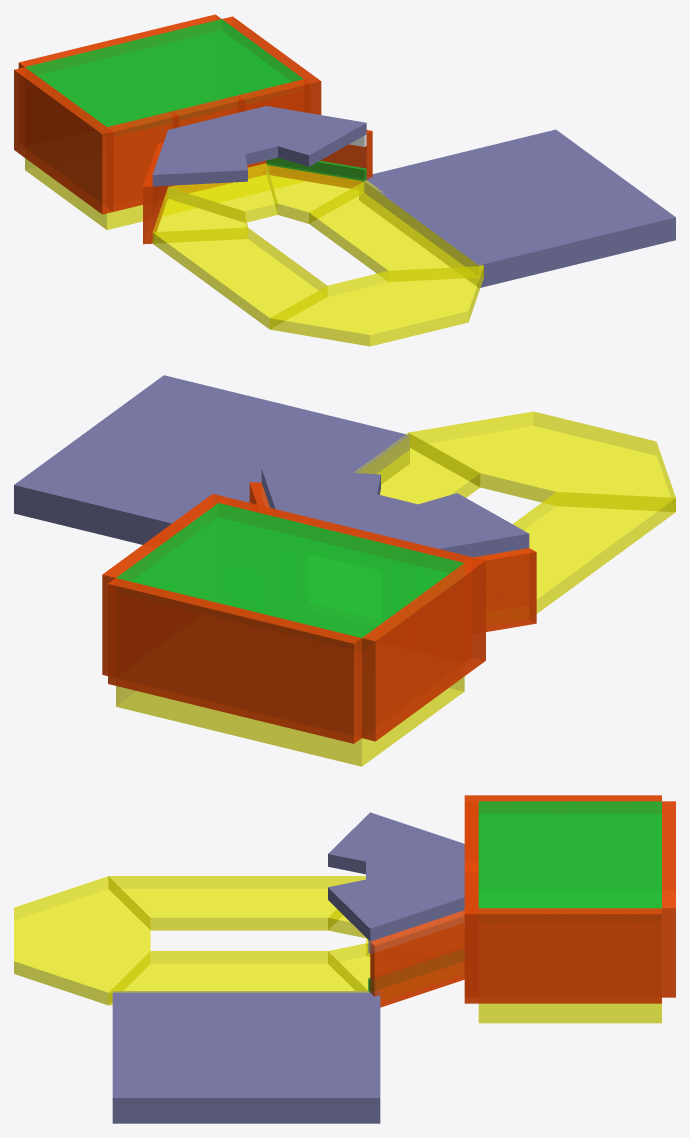
The model's file is angled.obj.
The picture shows the model from 3 angles, top to bottom: view 1: azimuth 30°, elevation 25°; view 2: azimuth 150°, elevation 25°; view 3: azimuth 270°, elevation 25°; orthographic projection. The views are drawn at different scales.
Visible parts, largest first — view 1: entity0_brush20, entity0_brush16, entity0_brush6, entity0_brush4, entity0_brush5, entity0_brush9, entity0_brush13, entity0_brush17, entity0_brush3, entity0_brush18, entity0_brush0, entity0_brush2 (+9 smaller); view 2: entity0_brush20, entity0_brush8, entity0_brush16, entity0_brush6, entity0_brush9, entity0_brush4, entity0_brush1, entity0_brush5, entity0_brush17, entity0_brush18, entity0_brush11, entity0_brush19 (+4 smaller); view 3: entity0_brush20, entity0_brush16, entity0_brush7, entity0_brush6, entity0_brush4, entity0_brush5, entity0_brush10, entity0_brush18, entity0_brush17, entity0_brush1, entity0_brush19, entity0_brush8 (+8 smaller).
Part boxes in pixels (x1,y1,x2,y2): entity0_brush20: [359, 129, 675, 287]; entity0_brush16: [25, 19, 303, 133]; entity0_brush6: [270, 266, 483, 346]; entity0_brush4: [152, 227, 327, 329]; entity0_brush5: [309, 180, 483, 281]; entity0_brush9: [14, 67, 113, 214]; entity0_brush13: [107, 111, 178, 211]; entity0_brush17: [152, 130, 247, 186]; entity0_brush3: [153, 187, 247, 243]; entity0_brush18: [266, 106, 366, 166]; entity0_brush0: [168, 163, 277, 222]; entity0_brush2: [267, 165, 363, 223]; entity0_brush20: [14, 375, 409, 544]; entity0_brush8: [108, 578, 361, 743]; entity0_brush16: [116, 503, 464, 638]; entity0_brush6: [408, 411, 675, 511]; entity0_brush9: [362, 557, 485, 741]; entity0_brush4: [513, 492, 675, 613]; entity0_brush1: [116, 676, 464, 766]; entity0_brush5: [354, 432, 480, 504]; entity0_brush17: [408, 493, 529, 557]; entity0_brush18: [261, 468, 380, 516]; entity0_brush11: [474, 548, 536, 631]; entity0_brush19: [307, 494, 417, 541]; entity0_brush20: [112, 991, 380, 1123]; entity0_brush16: [478, 801, 661, 908]; entity0_brush7: [464, 908, 661, 1003]; entity0_brush6: [14, 876, 150, 1005]; entity0_brush4: [108, 876, 365, 930]; entity0_brush5: [108, 951, 369, 1005]; entity0_brush10: [370, 910, 464, 1007]; entity0_brush18: [328, 879, 464, 941]; entity0_brush17: [328, 812, 464, 874]; entity0_brush1: [478, 1003, 661, 1023]; entity0_brush19: [366, 844, 464, 897]; entity0_brush8: [662, 801, 675, 997].
Size of the model in its own units: 19 by 4.5 by 23.5.
